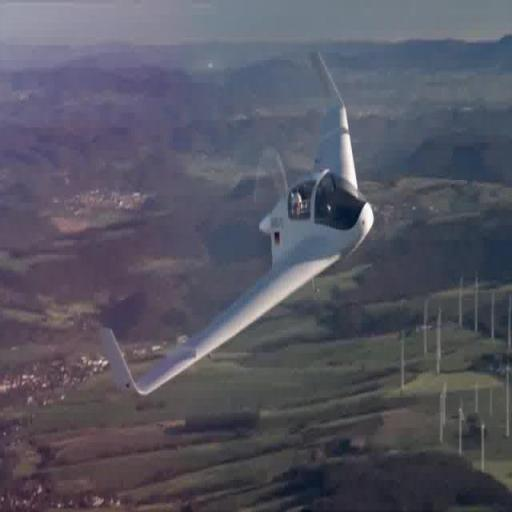uav: (98, 43, 378, 407)
